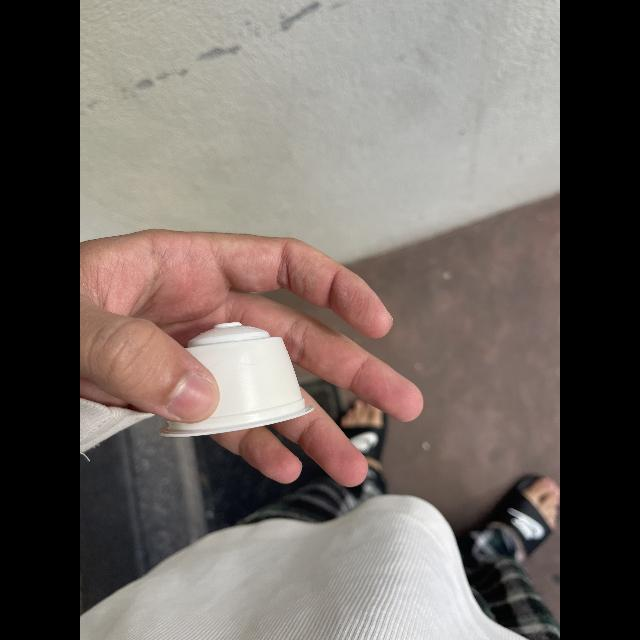intact_capsule: (144, 314, 320, 456)
